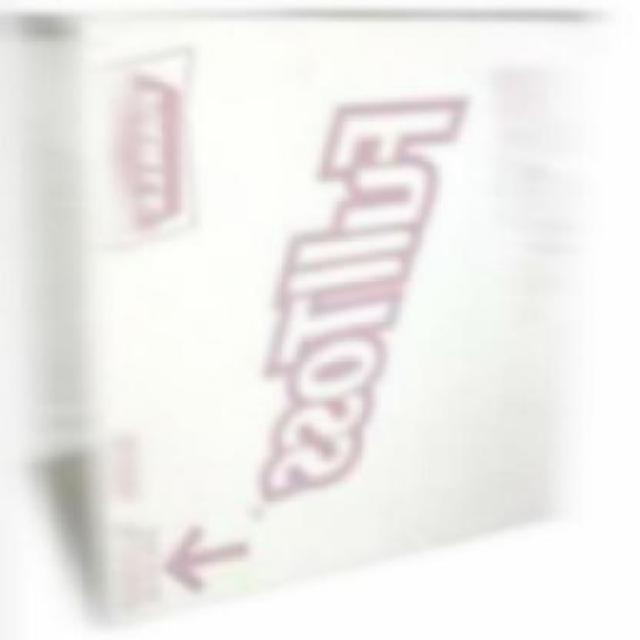box: (9, 0, 631, 634)
